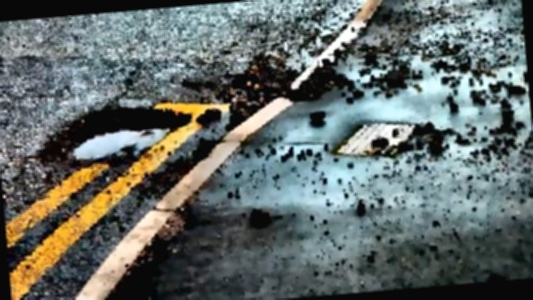pothole: (34, 99, 197, 172)
